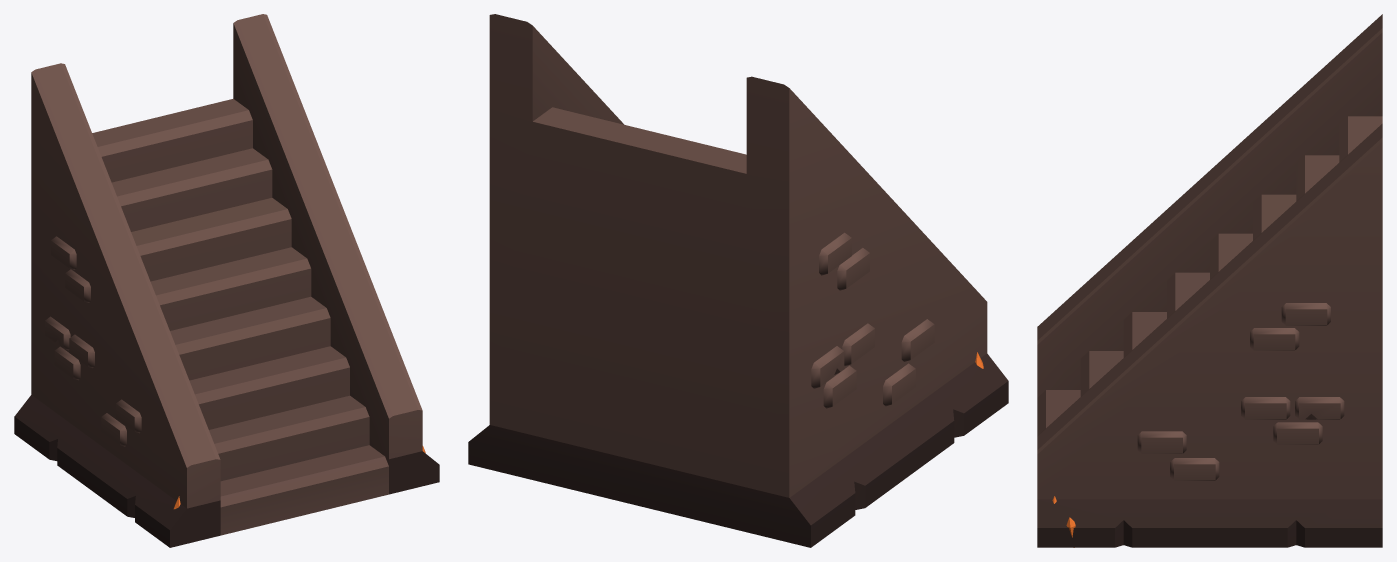
The model's file is stairs_up.fbx.
The picture shows the model from 3 angles, left to right: view 1: azimuth 30°, elevation 25°; view 2: azimuth 150°, elevation 25°; view 3: azimuth 270°, elevation 25°; orthographic projection. The views are drawn at different scales.
Parts seen in each view (by area): view 1: stairs_up; view 2: stairs_up; view 3: stairs_up.
Part boxes in pixels (<box>): stairs_up: <box>14,14,439,547</box>; stairs_up: <box>468,14,1008,547</box>; stairs_up: <box>1037,14,1382,547</box>.
Bounding box in the file's own units: 4.02 × 5.12 × 4.
